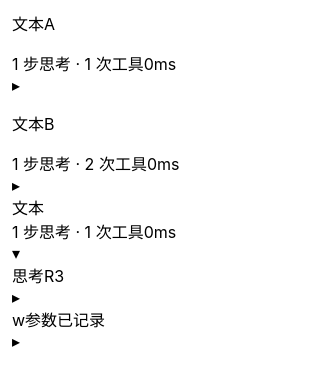
Test: TurnContentStream（内容块流） › 组折叠卸载成员 DOM（展开→点击折叠→成员消失）
Expected: the number of buttons with test id "toolcall-row" is 1, [12,310,105,351]
What coordinates should you click on to do the following:
click the button with test id "activity-group-header" showing "1 步思考 · 1 次工具0ms ▾"
I would click on:
 (94, 242)
Its box is [12,222,176,263].
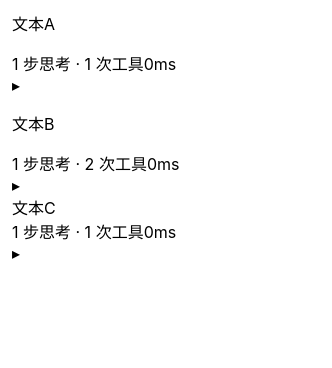
Expected: no buttons with test id "toolcall-row" are shown
